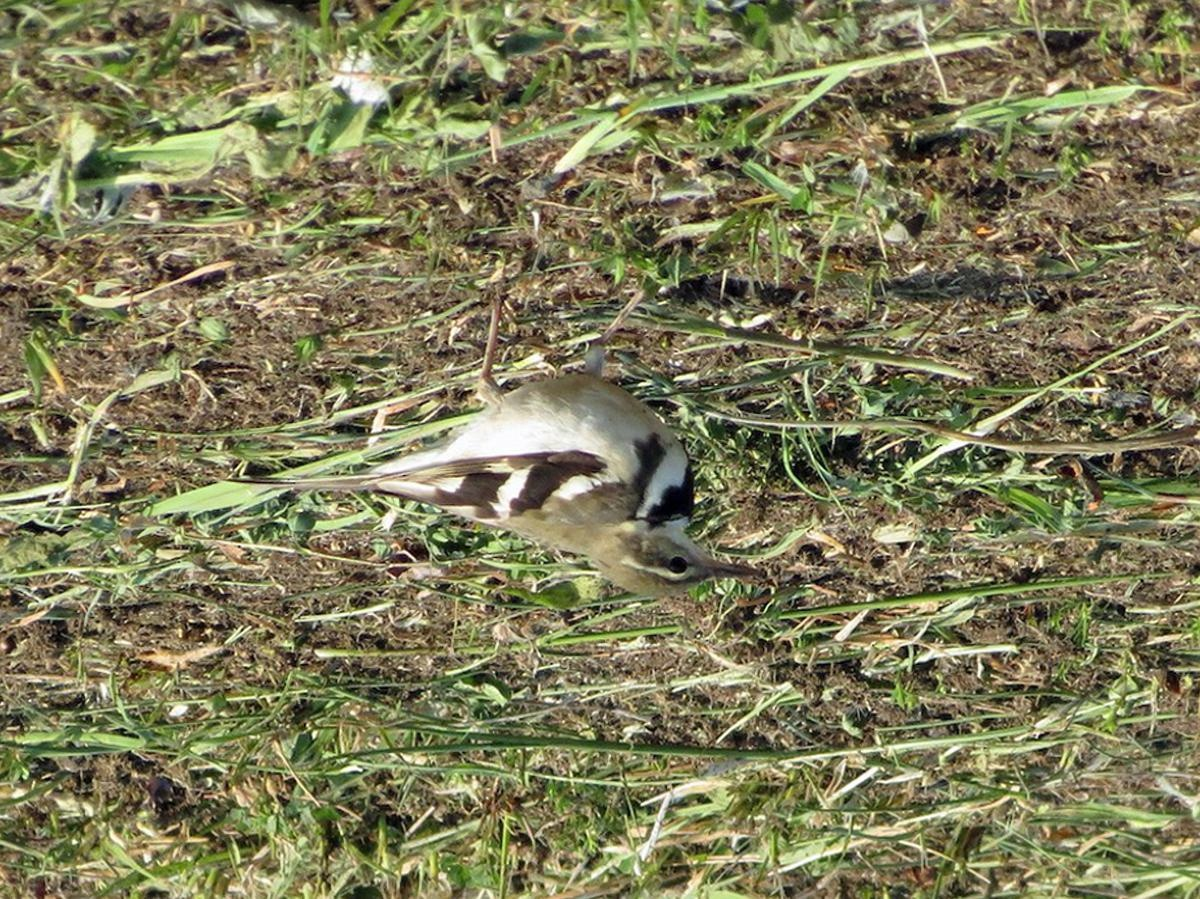wagtail: (364, 317, 771, 599)
